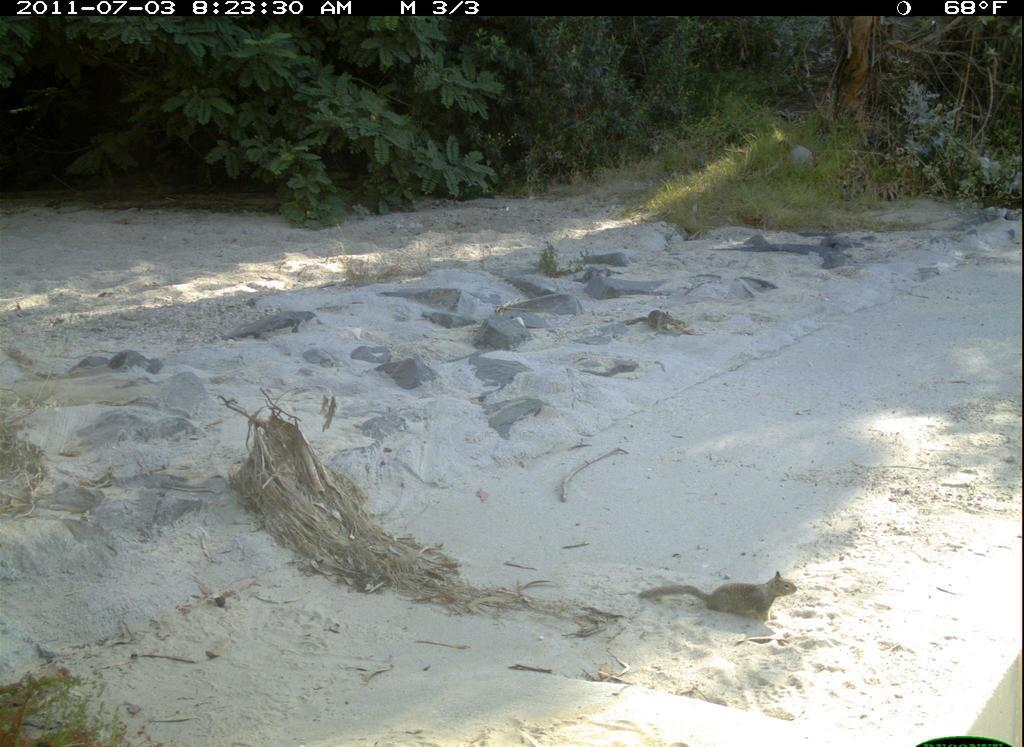squirrel: (629, 536, 812, 634)
